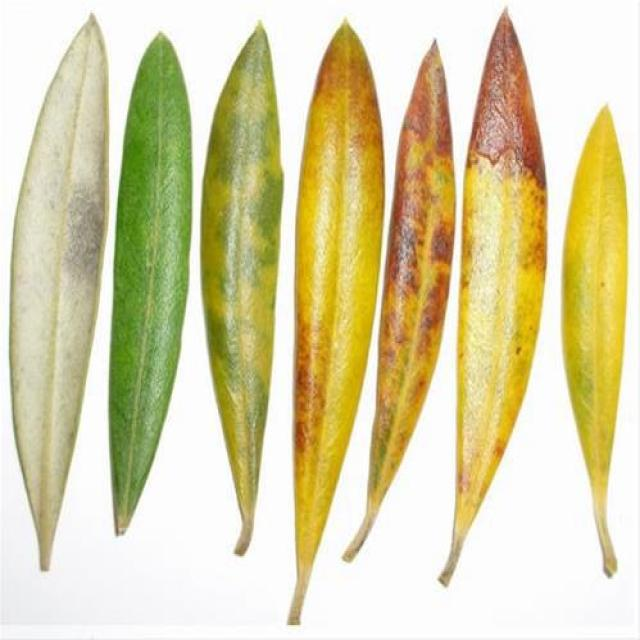Healthy: (109, 35, 191, 528)
Peacock Eye: (439, 12, 544, 584), (12, 20, 108, 562), (295, 25, 381, 571), (201, 26, 282, 533), (369, 43, 454, 495), (562, 107, 626, 492)
